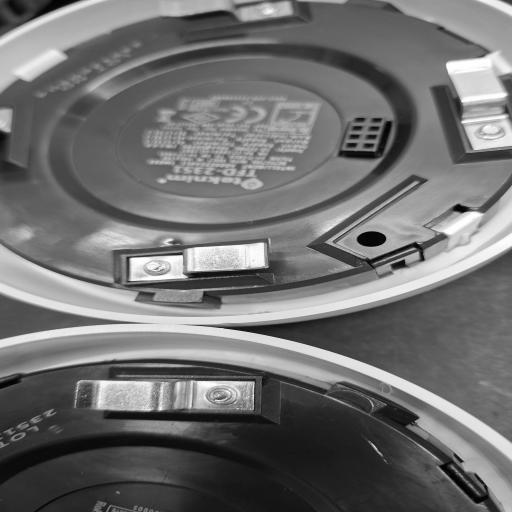konnektor: (333, 109, 395, 164)
yaysiz: (54, 360, 276, 421), (104, 230, 308, 288), (421, 48, 512, 164)
